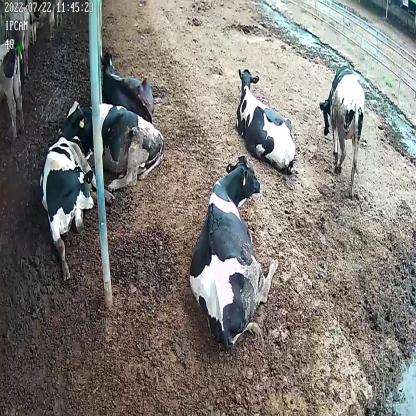cow: (189, 155, 281, 350), (55, 97, 166, 196), (42, 138, 116, 284), (234, 64, 299, 177), (320, 63, 366, 195), (100, 49, 156, 126)
